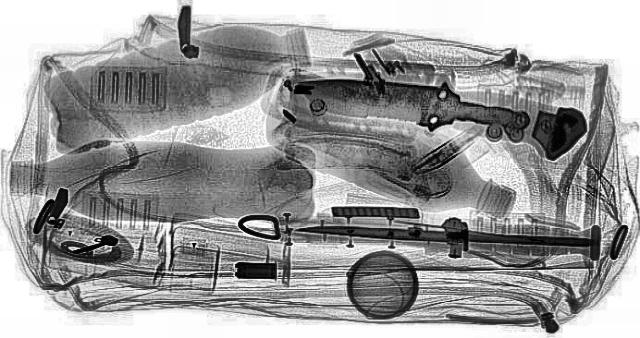Knife: (282, 65, 546, 141), (290, 209, 596, 263)
